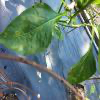Bell_pepper leaf spot: (0, 2, 59, 57), (65, 45, 97, 92)
